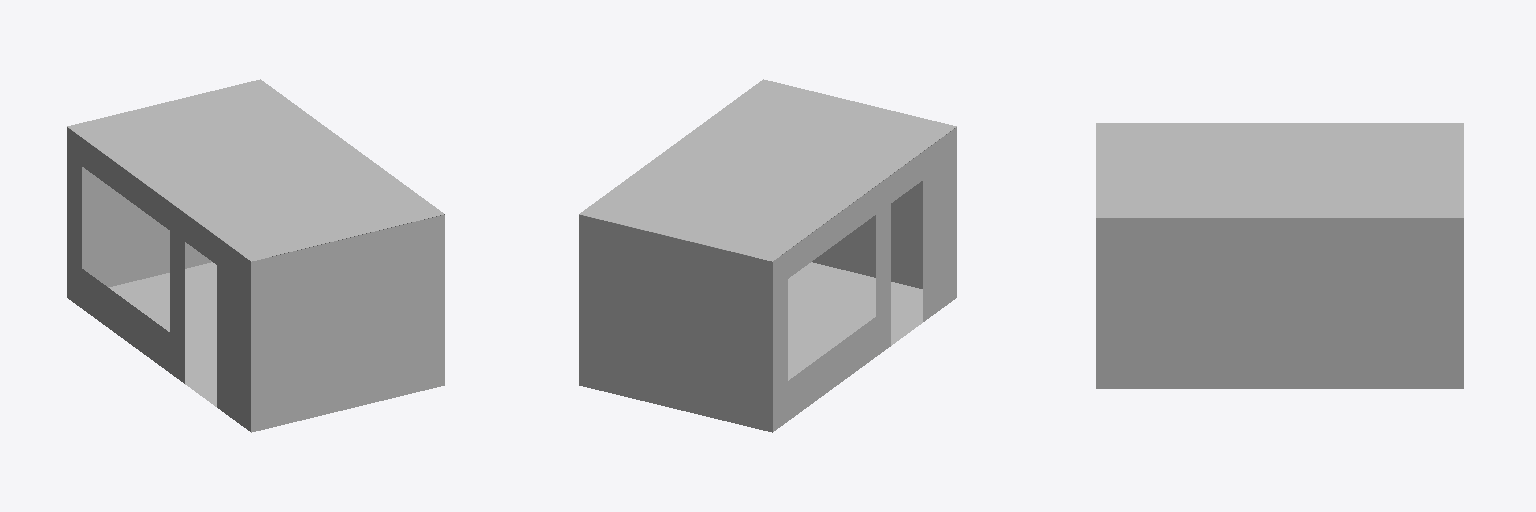
Rendered from cocina.obj.
3 renders of one model, left to right at view 1: azimuth 30°, elevation 25°; view 2: azimuth 150°, elevation 25°; view 3: azimuth 270°, elevation 25°, orthographic.
Visible parts, largest first — view 1: paredes, techo, suelo; view 2: paredes, techo, suelo; view 3: paredes, techo.
Boxes of the visible parts, x1,y1,x2,y2 form: paredes: [67, 127, 444, 432]; techo: [67, 79, 443, 261]; suelo: [109, 257, 268, 406]; paredes: [579, 127, 956, 432]; techo: [580, 79, 956, 261]; suelo: [755, 257, 922, 380]; paredes: [1096, 218, 1463, 388]; techo: [1096, 123, 1463, 217].
Bounding box in the file's own units: 3.08 × 2.6 × 5.08.